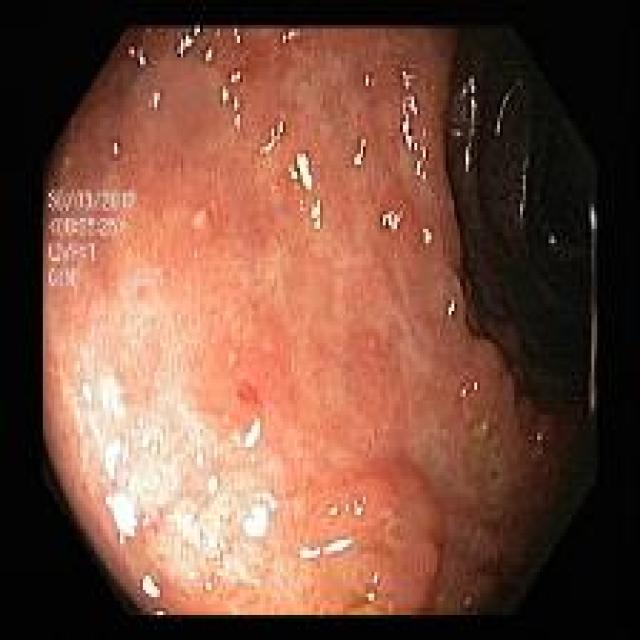ulcerative-colitis: (44, 28, 574, 615)
